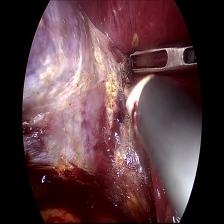Grasper: (124, 42, 202, 74)
Hook: (116, 74, 160, 122)
